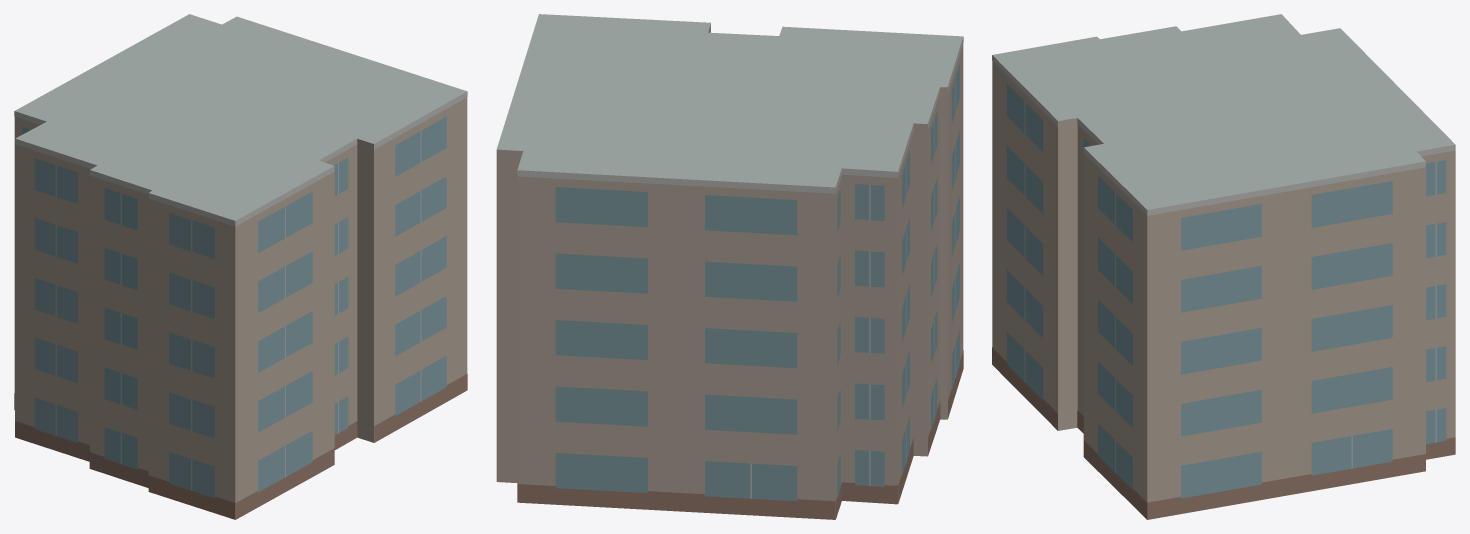
The model's file is survey-upis-32661137.glb.
3 views of the same model, side by side, from view 1: azimuth 30°, elevation 25°; view 2: azimuth 150°, elevation 25°; view 3: azimuth 270°, elevation 25° (orthographic). The views are drawn at different scales.
Parts seen in each view (by area): view 1: survey-upis-32661137.tmp; view 2: survey-upis-32661137.tmp; view 3: survey-upis-32661137.tmp.
Boxes of the visible parts, <box> form: survey-upis-32661137.tmp: <box>14,14,467,519</box>; survey-upis-32661137.tmp: <box>496,14,963,519</box>; survey-upis-32661137.tmp: <box>992,14,1455,519</box>.
Size of the model in its own units: 17.65 by 13 by 17.63.
